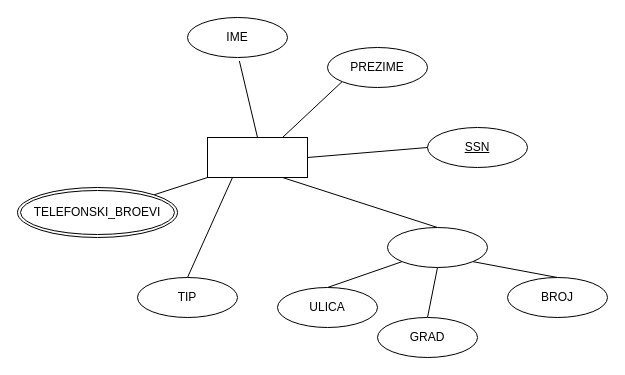
The diagram is 625 pixels wide and 375 high, and some of its shapes have lost their labels. The centre of each missing label's shape, as x and y in pixels:
ADRESA: (x=437, y=247)
KORISNIK: (x=257, y=157)
